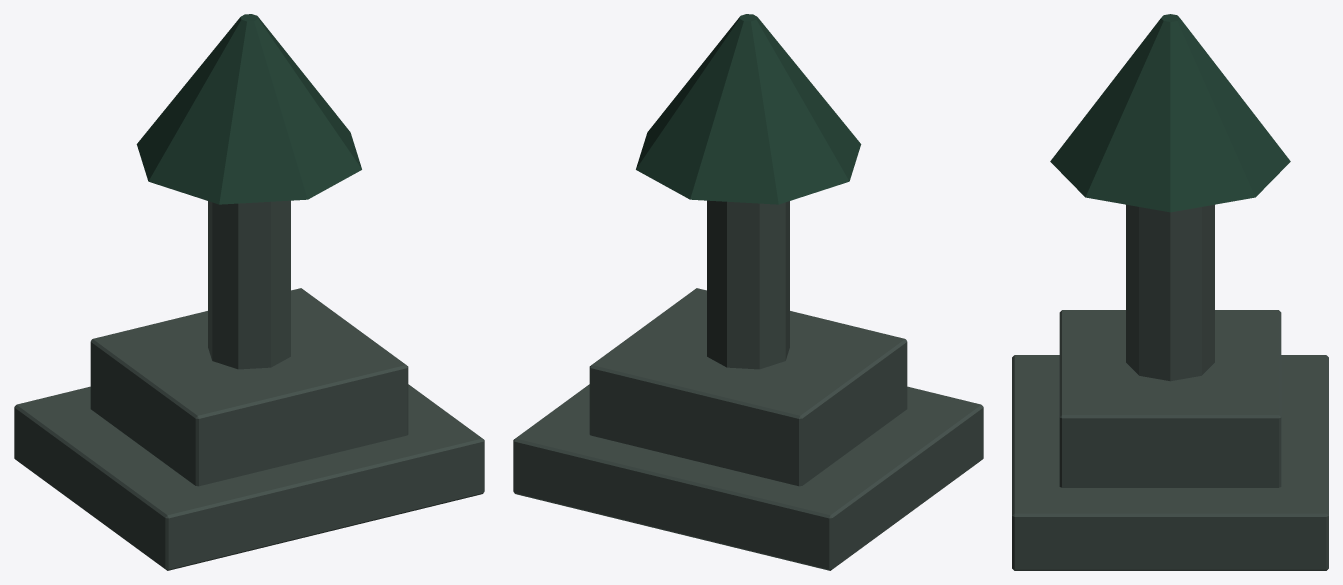
Rendered from LumenStoneShrineV2.glb.
3 views of the same model, side by side, from view 1: azimuth 30°, elevation 25°; view 2: azimuth 150°, elevation 25°; view 3: azimuth 270°, elevation 25° (orthographic). The views are drawn at different scales.
Visible parts, largest first — view 1: LumenStoneShrineV2; view 2: LumenStoneShrineV2; view 3: LumenStoneShrineV2.
Part boxes in pixels (x1,y1,x2,y2): LumenStoneShrineV2: [14, 14, 484, 570]; LumenStoneShrineV2: [513, 14, 983, 570]; LumenStoneShrineV2: [1012, 14, 1328, 570].
Bounding box in the file's own units: 12 × 16.5 × 10.
1 material, 1 textured.
